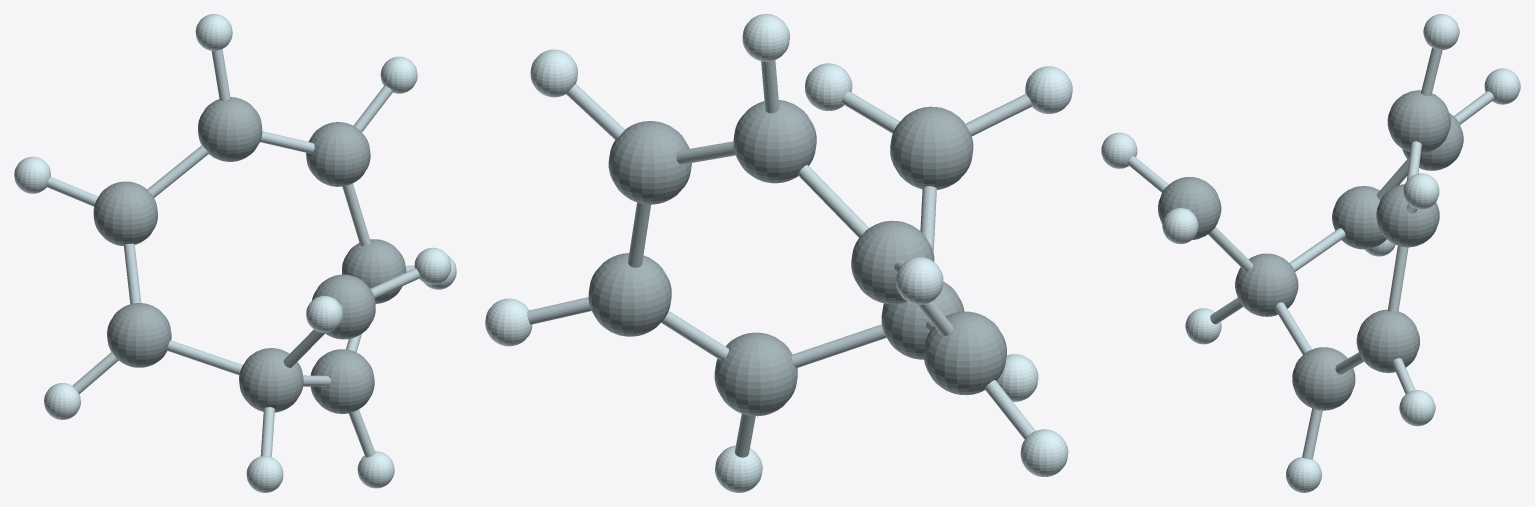
Rendered from irc_step_080.glb.
The picture shows the model from 3 angles, left to right: view 1: azimuth 30°, elevation 25°; view 2: azimuth 150°, elevation 25°; view 3: azimuth 270°, elevation 25°; orthographic projection. The views are drawn at different scales.
Visible parts, largest first — view 1: Renderer Node; view 2: Renderer Node; view 3: Renderer Node.
Boxes of the visible parts, left/top/right/bottom form: Renderer Node: left=14, top=14, right=456, bottom=492; Renderer Node: left=485, top=14, right=1072, bottom=492; Renderer Node: left=1101, top=14, right=1520, bottom=492.
Bounding box in the file's own units: 5.32 × 5.25 × 4.62.
